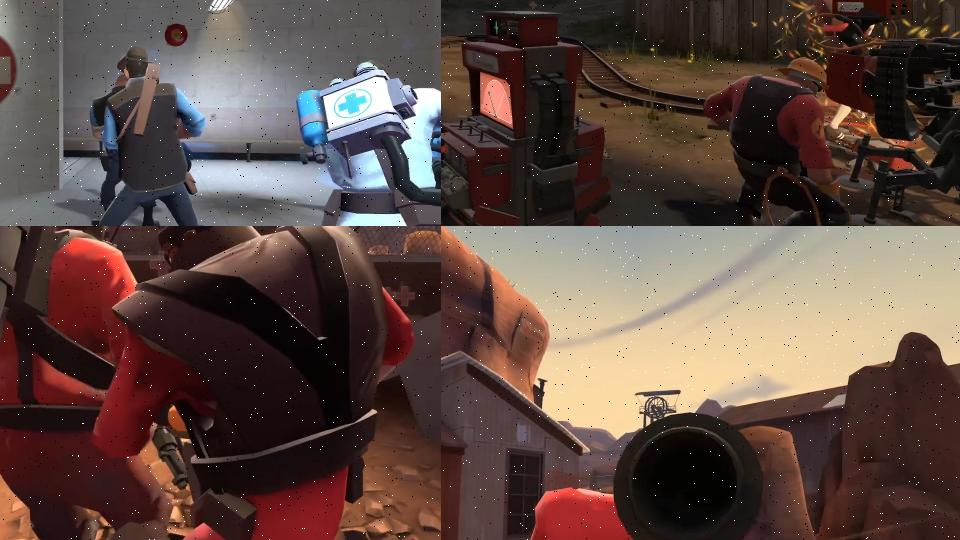Enemy: (90, 226, 415, 540), (0, 226, 175, 540), (506, 407, 822, 540), (57, 44, 271, 226), (705, 40, 850, 226), (291, 56, 441, 226), (88, 73, 161, 226)
